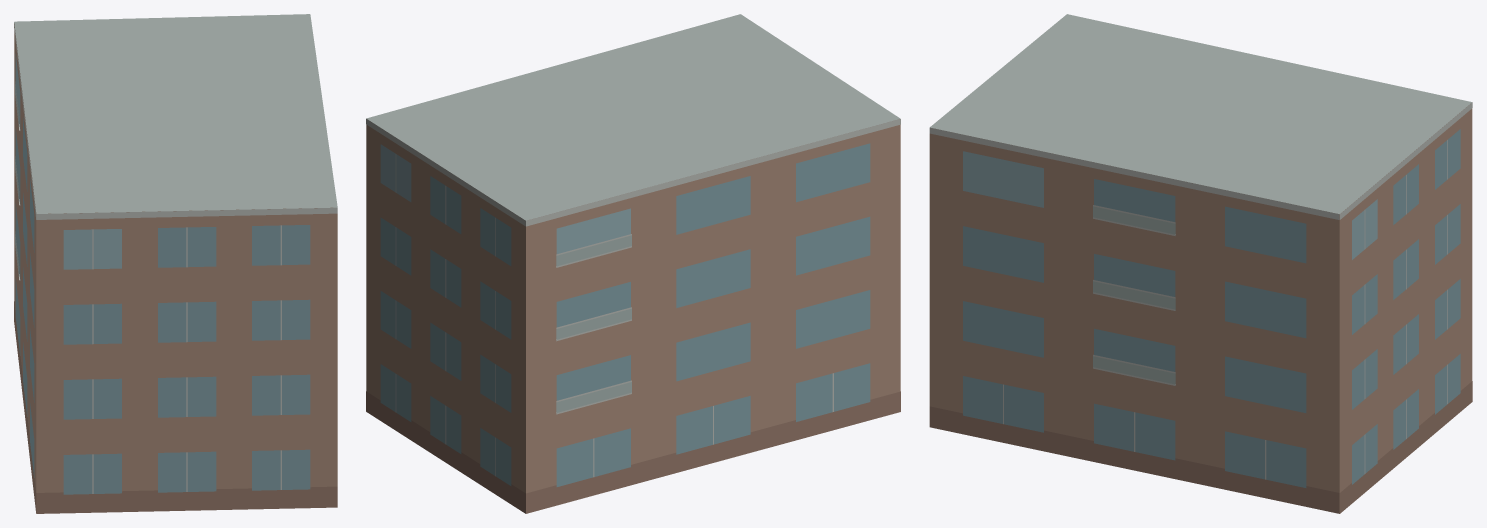
File: survey-upis-32707058.glb
3 renders of one model, left to right at view 1: azimuth 30°, elevation 25°; view 2: azimuth 150°, elevation 25°; view 3: azimuth 270°, elevation 25°, orthographic. The views are drawn at different scales.
Parts seen in each view (by area): view 1: survey-upis-32707058.tmp; view 2: survey-upis-32707058.tmp; view 3: survey-upis-32707058.tmp.
Boxes of the visible parts, <box> form: survey-upis-32707058.tmp: <box>14,14,337,513</box>; survey-upis-32707058.tmp: <box>366,14,900,513</box>; survey-upis-32707058.tmp: <box>929,14,1472,513</box>.
Size of the model in its own units: 17.49 by 12.2 by 20.04.
